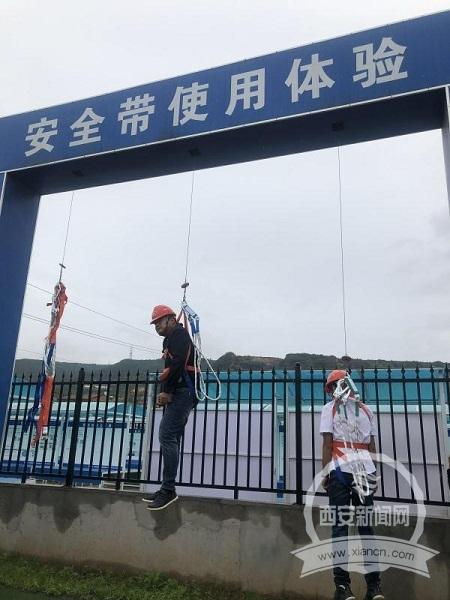helmet: (151, 303, 178, 325), (325, 379, 339, 393)
